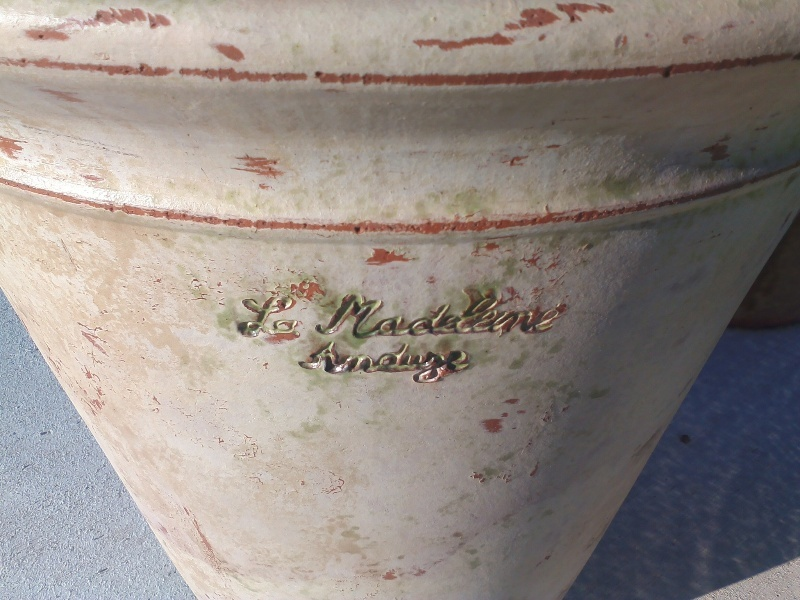text: (337, 290, 352, 340), (353, 290, 368, 340), (369, 290, 384, 340), (385, 290, 400, 340), (401, 290, 416, 340), (417, 290, 432, 340), (433, 290, 448, 340), (449, 290, 464, 340), (465, 290, 480, 340), (481, 290, 496, 340), (497, 290, 512, 340), (513, 290, 528, 340), (529, 290, 544, 340), (545, 290, 560, 340), (257, 293, 272, 339), (273, 293, 288, 339), (337, 340, 352, 384), (353, 340, 368, 384), (369, 340, 384, 384), (385, 340, 400, 384), (401, 340, 416, 384), (417, 340, 432, 384), (433, 340, 448, 384), (449, 340, 464, 384), (289, 293, 302, 339), (244, 293, 256, 339), (325, 340, 336, 384), (465, 340, 474, 384), (561, 290, 563, 340)
